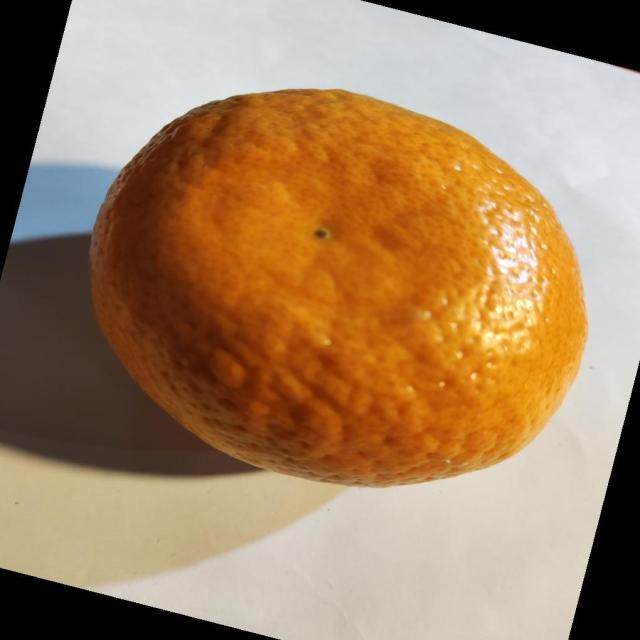agrume: (88, 86, 588, 489)
